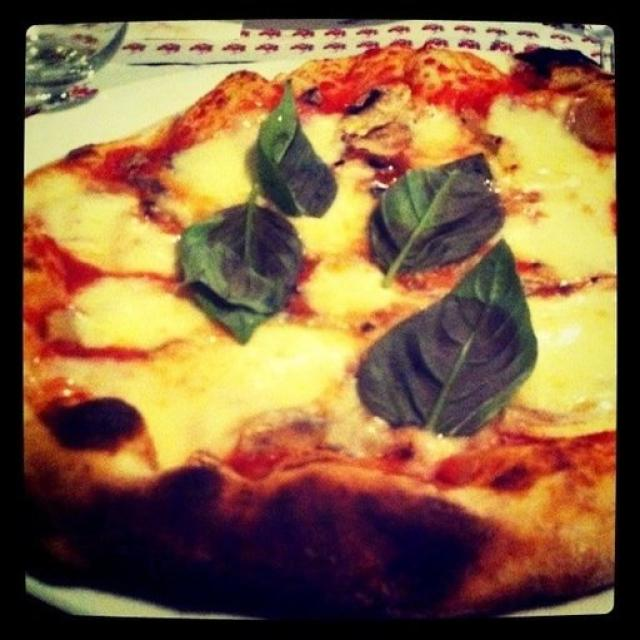Basil: (375, 240, 541, 442), (171, 192, 319, 348), (375, 147, 500, 289), (250, 99, 333, 218)
Pizza: (24, 47, 617, 616)
